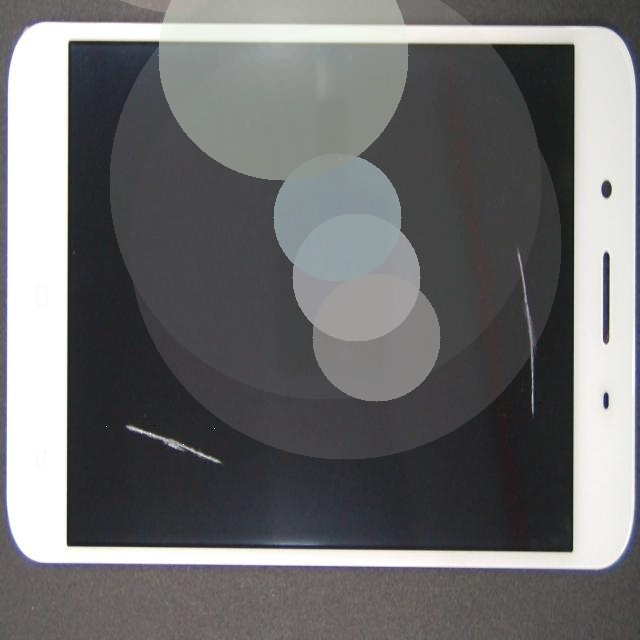scratch: (242, 56, 640, 502), (0, 204, 218, 640)
